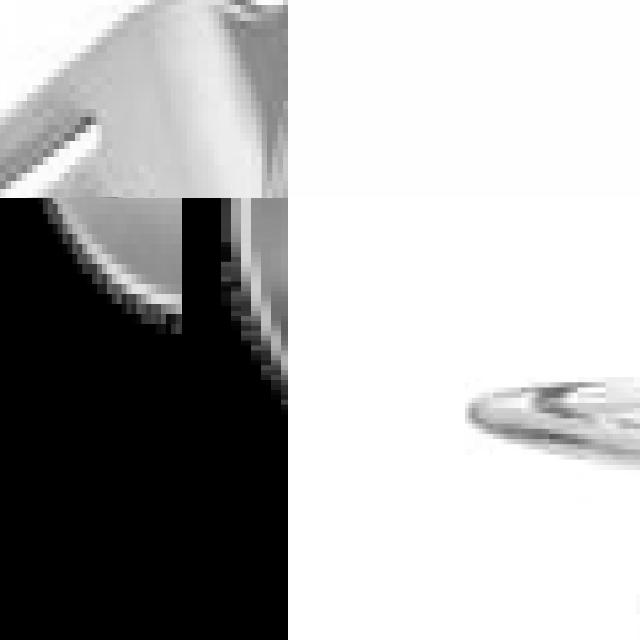forks: (0, 0, 288, 198), (525, 265, 640, 640)
spoons: (83, 198, 288, 473)
